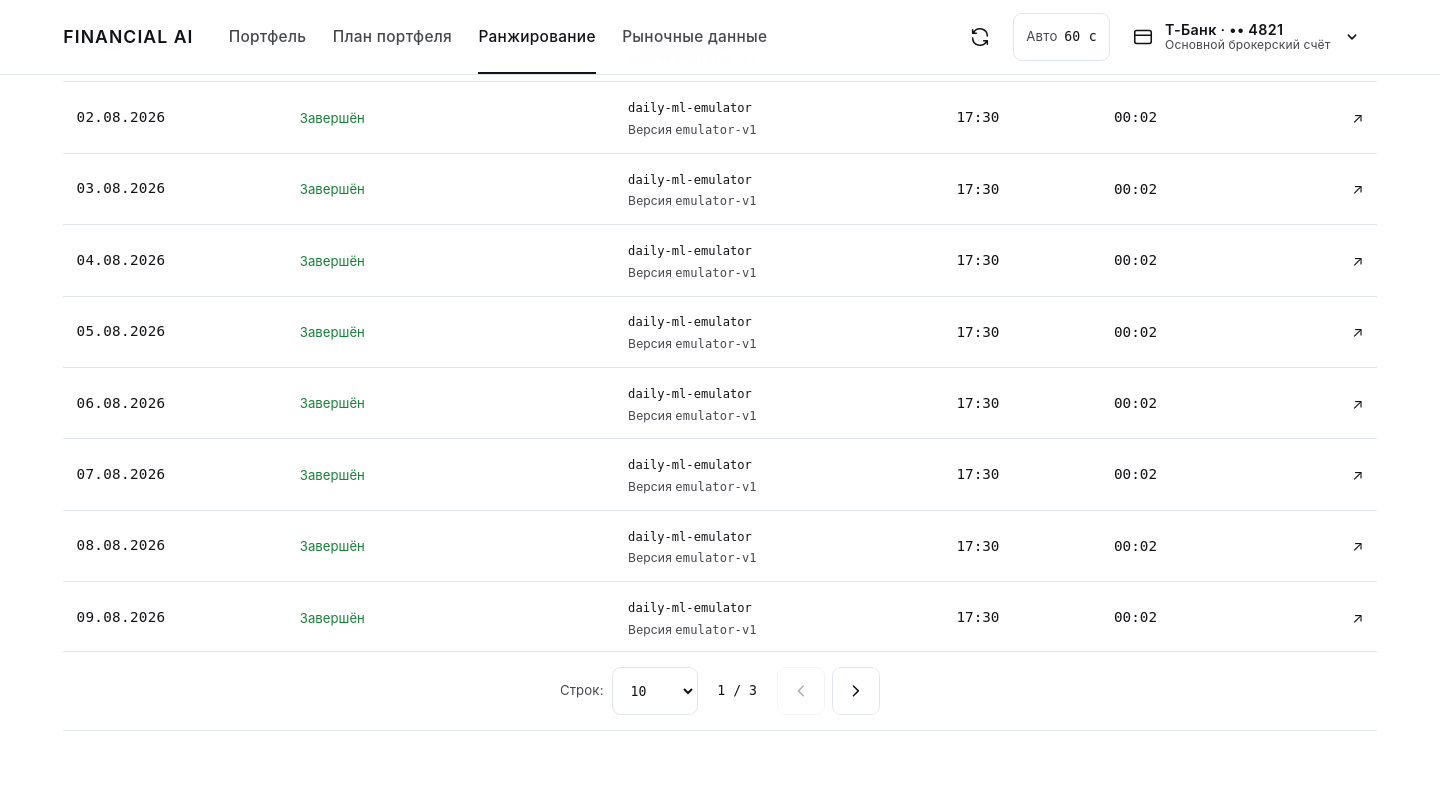
Test case: история прогонов › страницы считаются по общему числу прогонов, а не по показанным строкам
(page scrolled)
Expected: the text named "Страница 1 из 3" is shown, 717,683 -> 757,698
Click the button named "Следующая страница" at (856, 691), box 832,667 -> 880,715
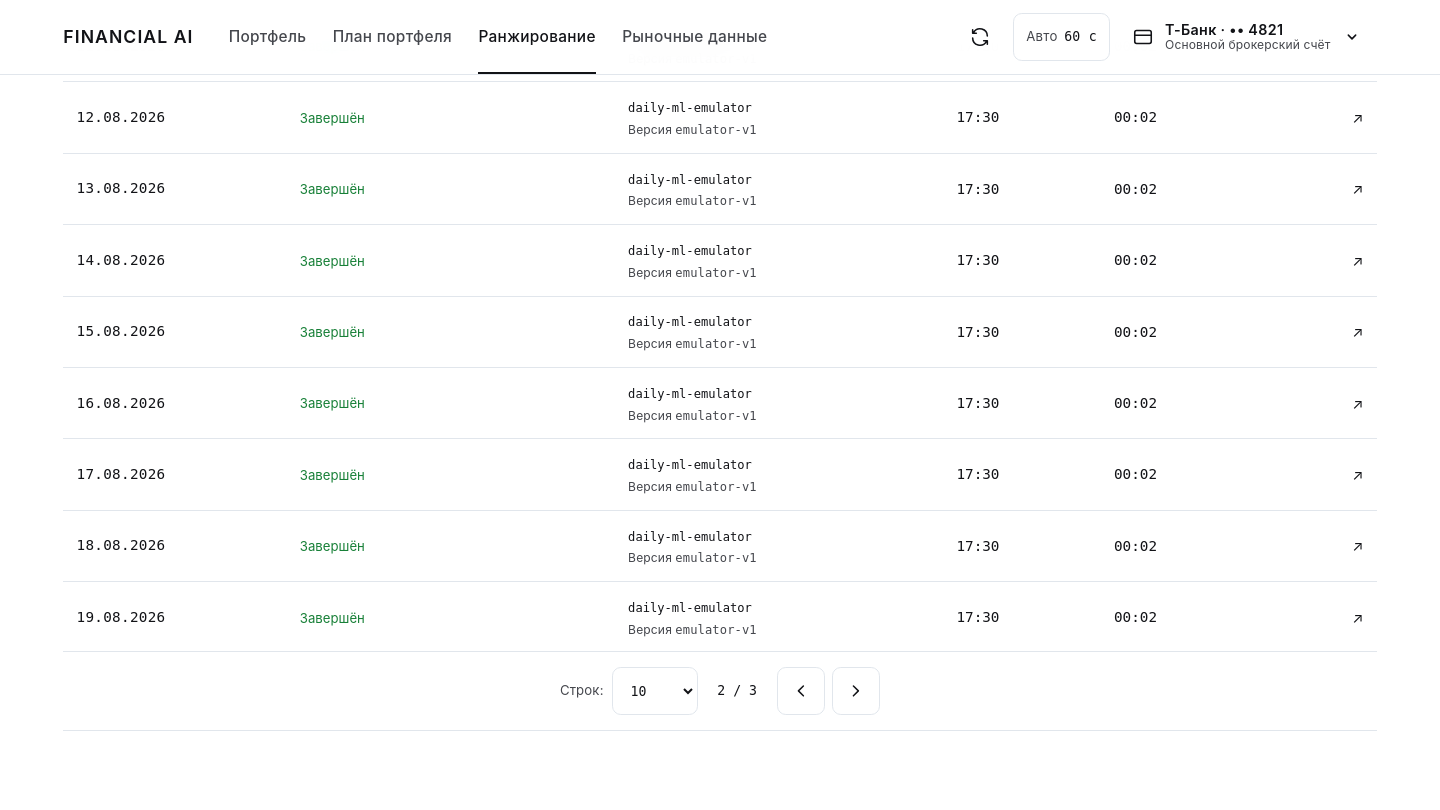
Expected: the text named "Страница 2 из 3" is shown, 717,683 -> 757,698
